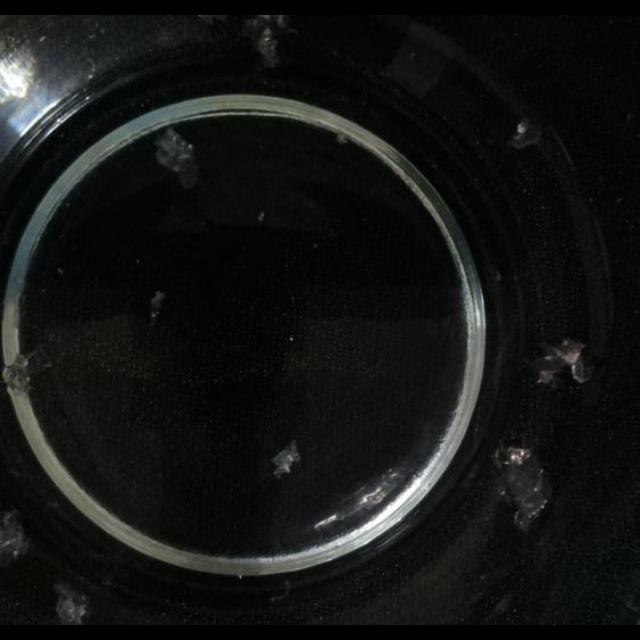Fibre: (491, 442, 551, 532), (530, 337, 592, 388), (240, 15, 292, 66), (1, 348, 54, 394), (0, 512, 30, 564), (55, 587, 89, 625), (270, 438, 302, 478), (508, 118, 542, 150), (148, 292, 166, 324), (336, 131, 352, 145), (256, 212, 264, 224)
Fragment: (154, 128, 200, 186)
